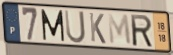7: (21, 6, 40, 43)
K: (88, 11, 107, 46)
M: (40, 8, 66, 43), (107, 13, 133, 47)
R: (129, 13, 154, 49)
U: (63, 9, 87, 45)
